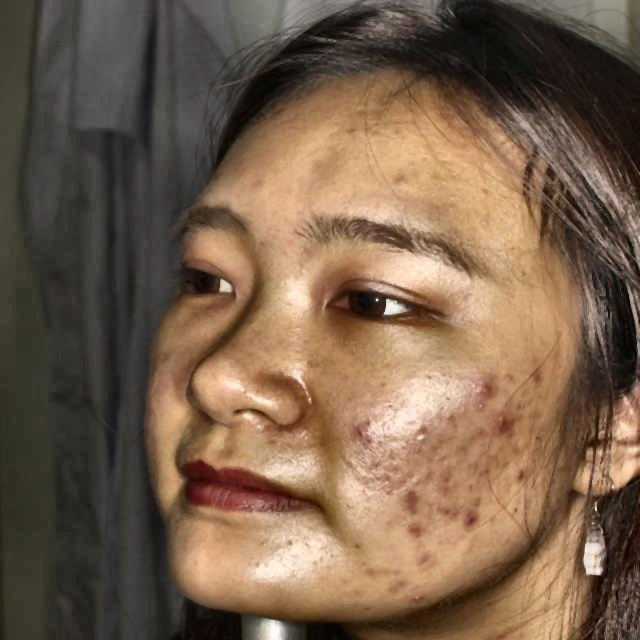pustule: (352, 422, 383, 448), (488, 408, 524, 429), (473, 374, 500, 401), (402, 516, 424, 545), (523, 364, 549, 388), (452, 508, 474, 536), (432, 489, 450, 520), (387, 568, 410, 592), (509, 467, 530, 492), (397, 492, 426, 510), (415, 552, 435, 578), (402, 590, 432, 605)
